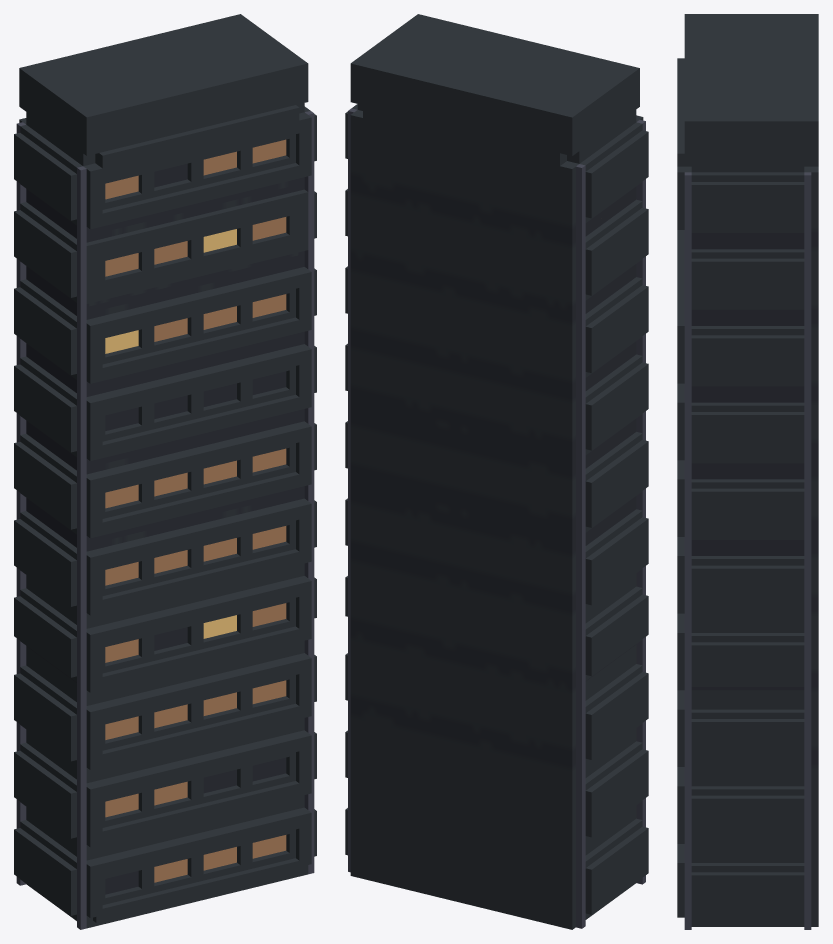
File: Building.fbx
3 views of the same model, side by side, from view 1: azimuth 30°, elevation 25°; view 2: azimuth 150°, elevation 25°; view 3: azimuth 270°, elevation 25° (orthographic).
Parts seen in each view (by area): view 1: Building; view 2: Building; view 3: Building.
Part boxes in pixels (bbox=[...]): Building: bbox=[14, 14, 316, 929]; Building: bbox=[345, 14, 648, 929]; Building: bbox=[677, 14, 818, 929].
Bounding box in the file's own units: 400 × 1260 × 200.
